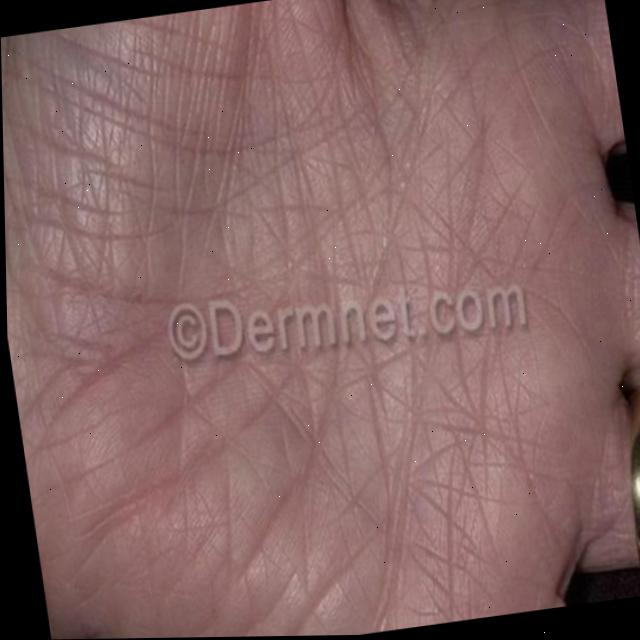Eczema: (3, 0, 578, 548)
